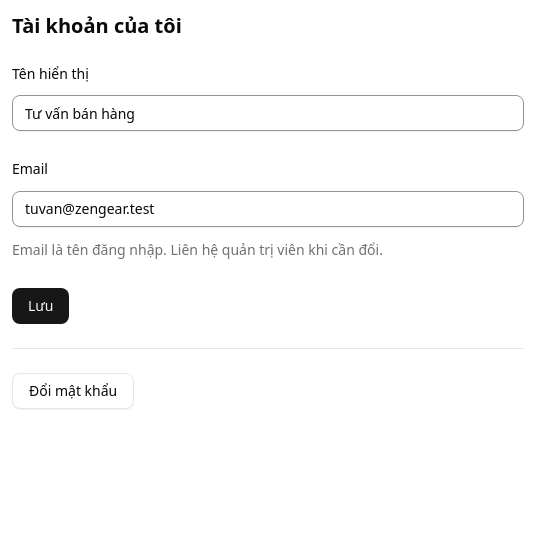
it: "Lưu" (PATCH /me with If-Match) › 400: shows the texts no field shows at the top of the form
Replace the text in the field labelled "Tên hiển thị" with "Tên mới". click: (268, 113)
box: [12, 95, 524, 131]
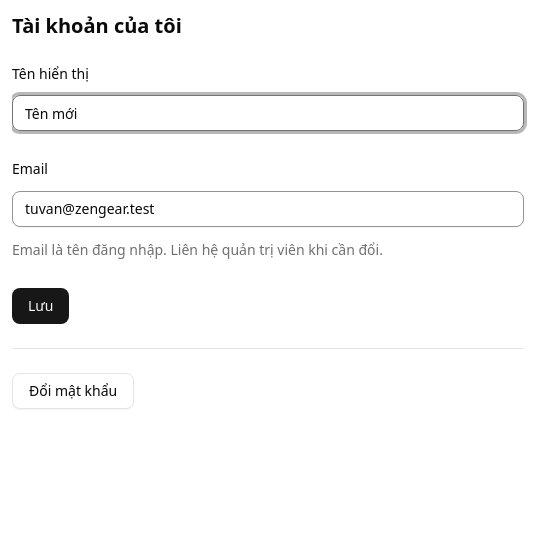
Click the button "Lưu". click: (41, 306)
box: [12, 288, 69, 324]
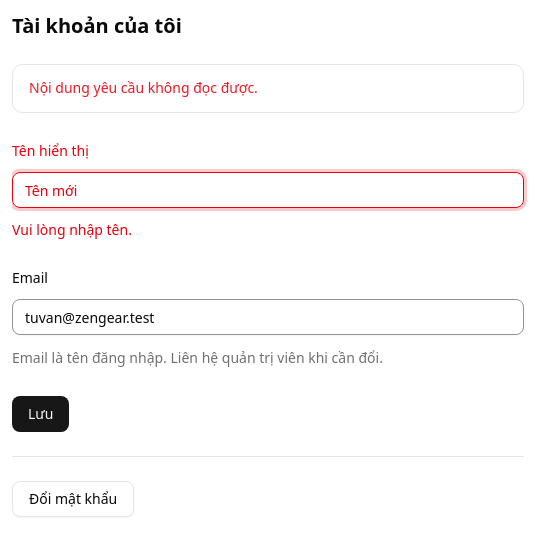
Now the message "Nội dung yêu cầu không đọc được." is shown, box [12, 64, 524, 113]
Now the text "Vui lòng nhập tên." is shown, box [12, 220, 132, 239]
